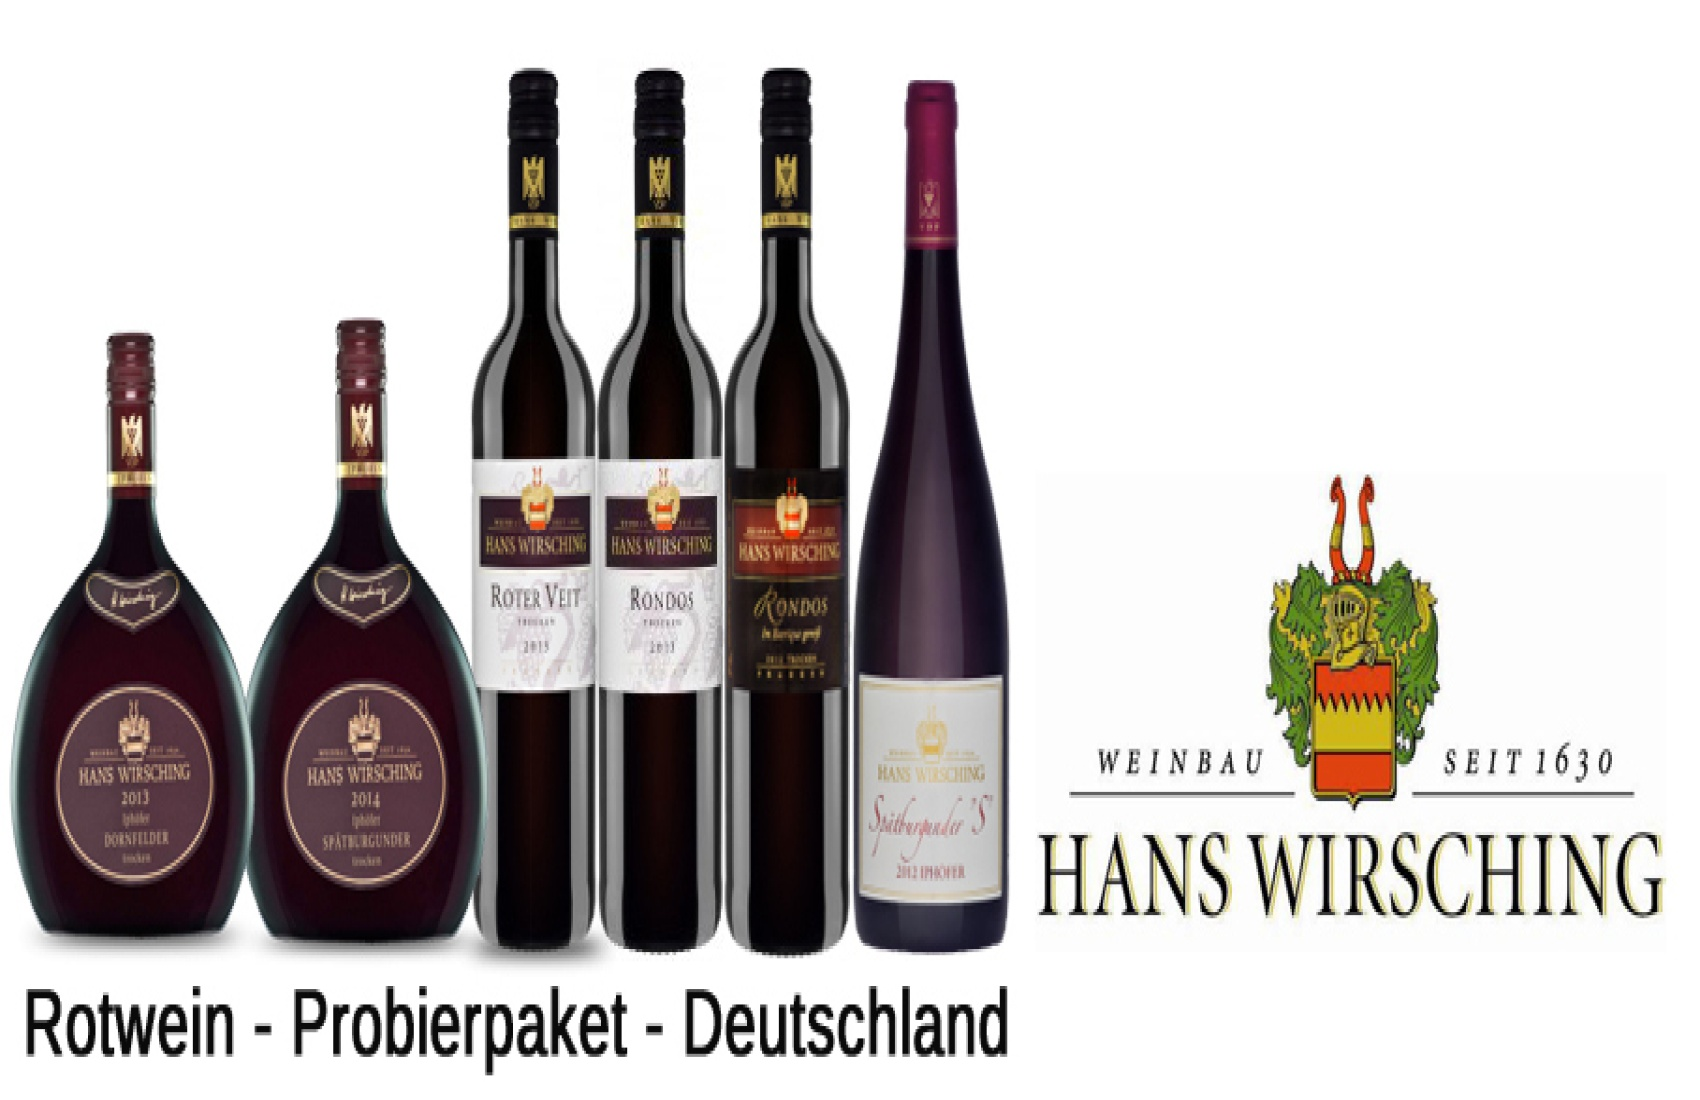wine: (857, 40, 1009, 958), (476, 40, 602, 959), (598, 42, 724, 961), (724, 30, 849, 949)
